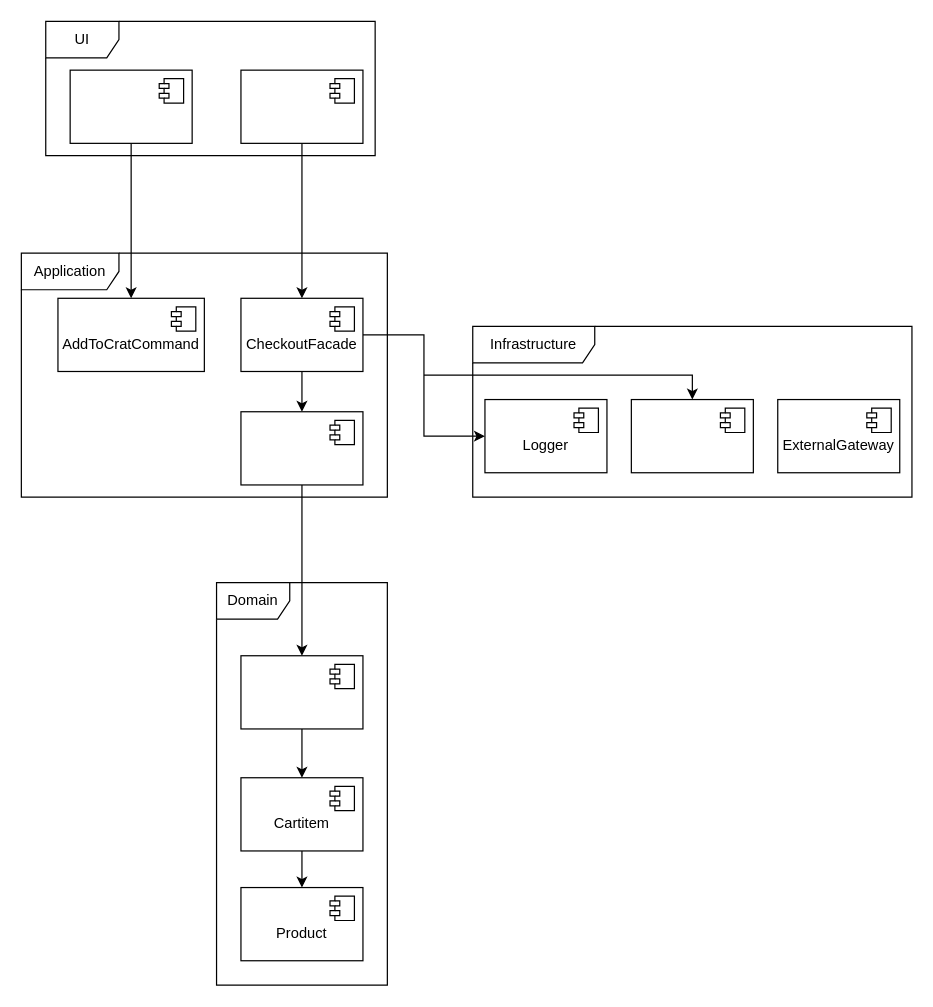
This 933x1007 diagram has some shape labels left out. The centre of each missing label's shape, as x and y in pixels:
"adminMenu" belongs at pixel 130 106.
"Order" belongs at pixel 301 692.
"OrderBuilder" belongs at pixel 301 448.
"PaymentFactory" belongs at pixel 691 435.
"userMenu" belongs at pixel 301 106.
